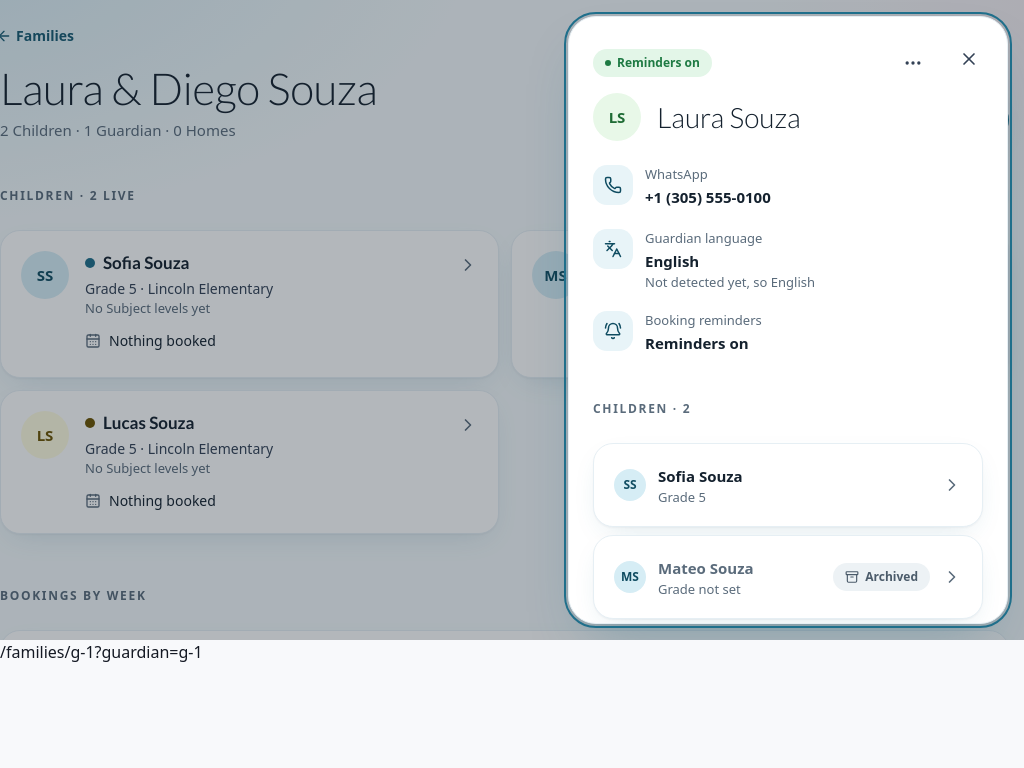
Test: guardian details body › lists their Children, and a row opens that Child stacked
Check: the heading "Children · 2" is shown, box [593,397,691,421]
Check: the text "Grade 5" is shown, box [658,488,706,506]
Click the button with aria-label "Open Sofia Souza".
click(630, 485)  # box [593,443,983,527]
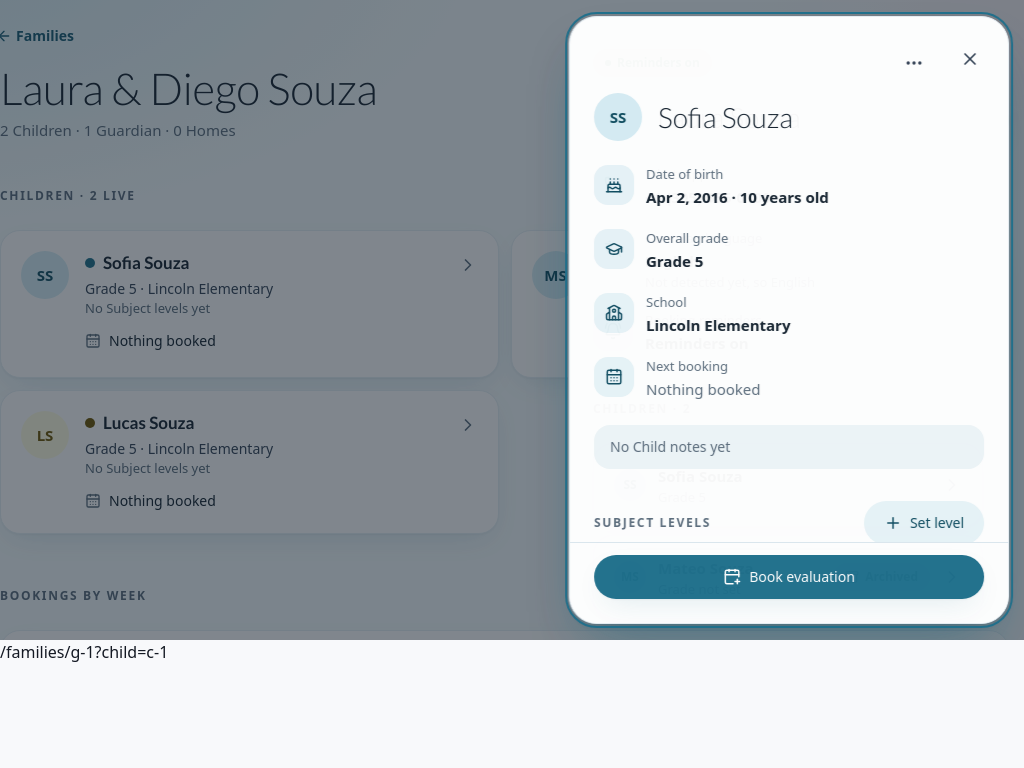
Check: the dialog "Sofia Souza" is shown, box [568,16,1008,624]
Check: the text named "Location" reads "/families/g-1?child=c-1", box [0,641,168,663]
